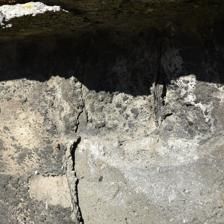Crack: (0, 16, 96, 105), (0, 76, 103, 144)
